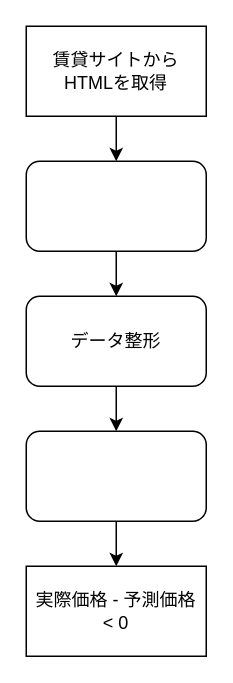
Image size: 233x683. Some labels were removed from this diagram. Each missing label, with the centre of its shape:
HTMLの解析: point (115, 205)
機械学習で 予測価格を算出: point (115, 475)
